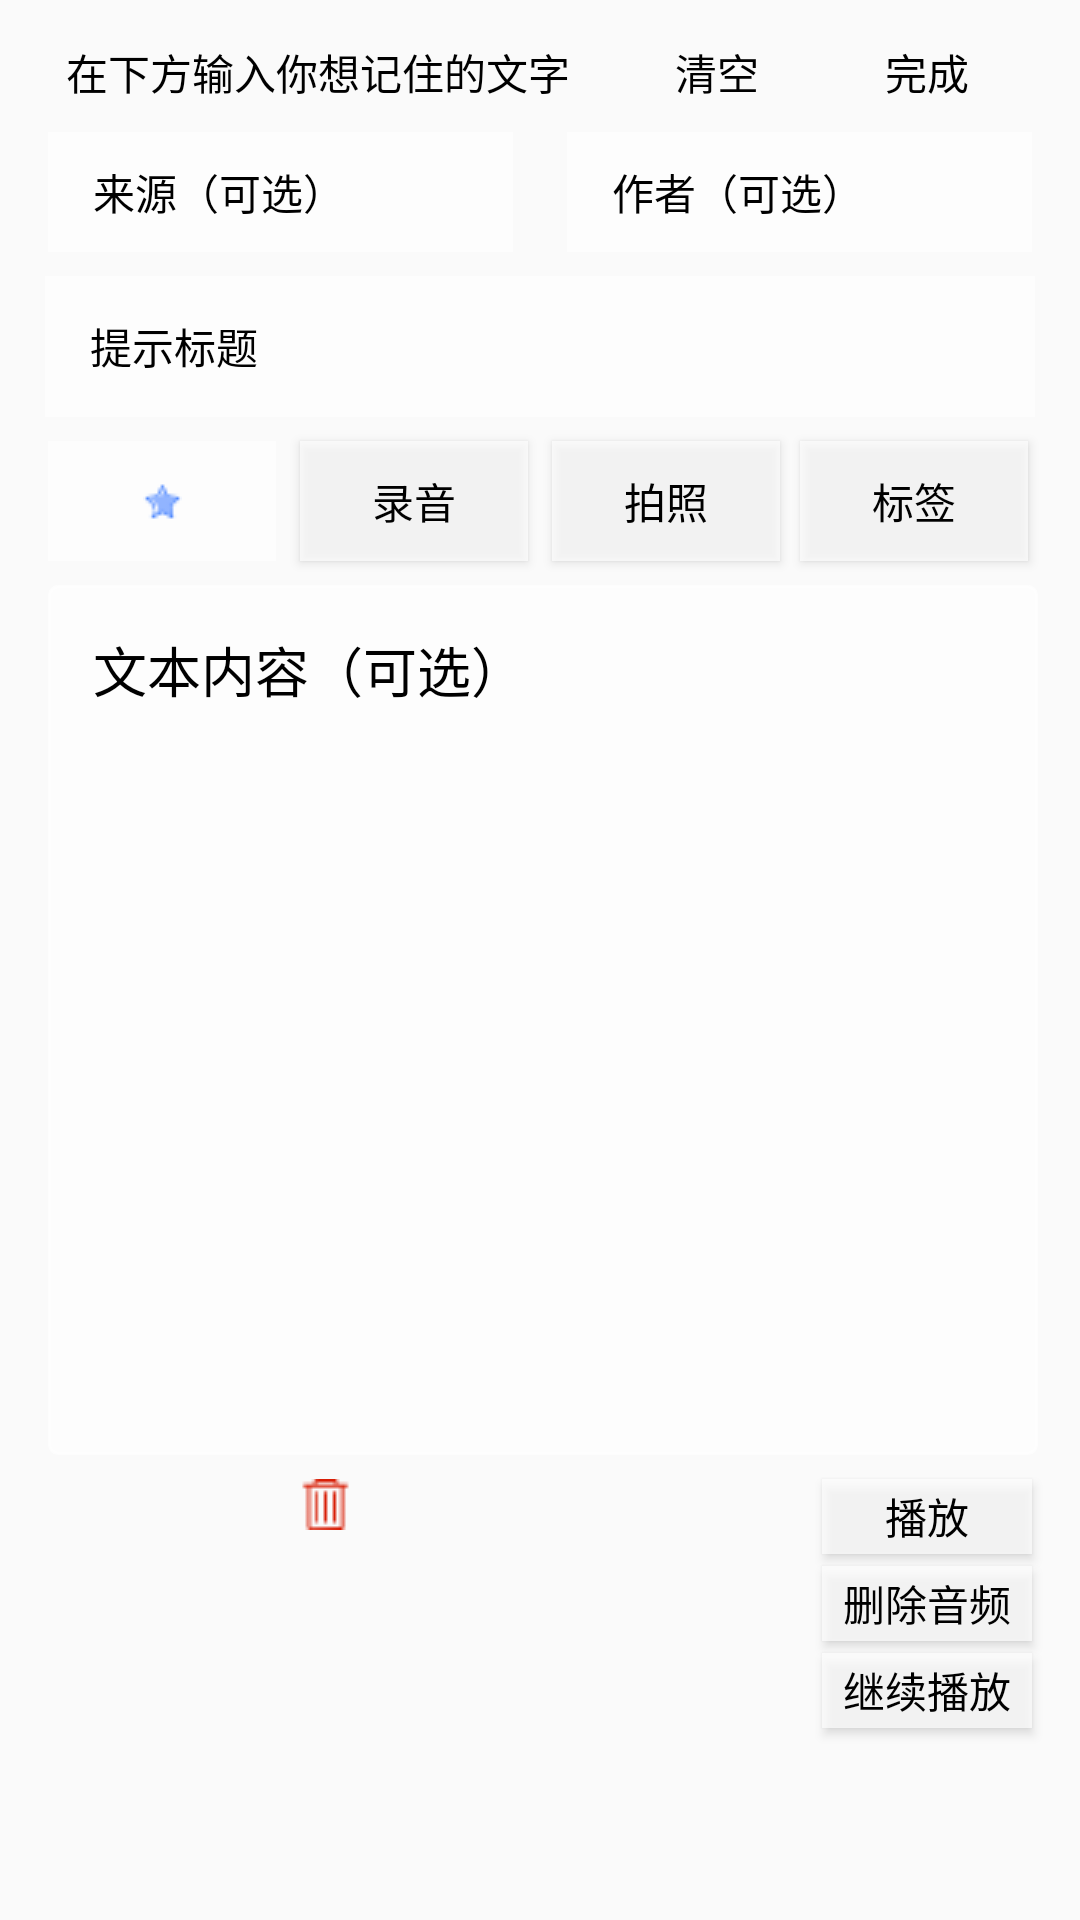

Named icons in this screenshot (1080×1920) and their centers, (x=x, y=y):
star: (x=162, y=501)
